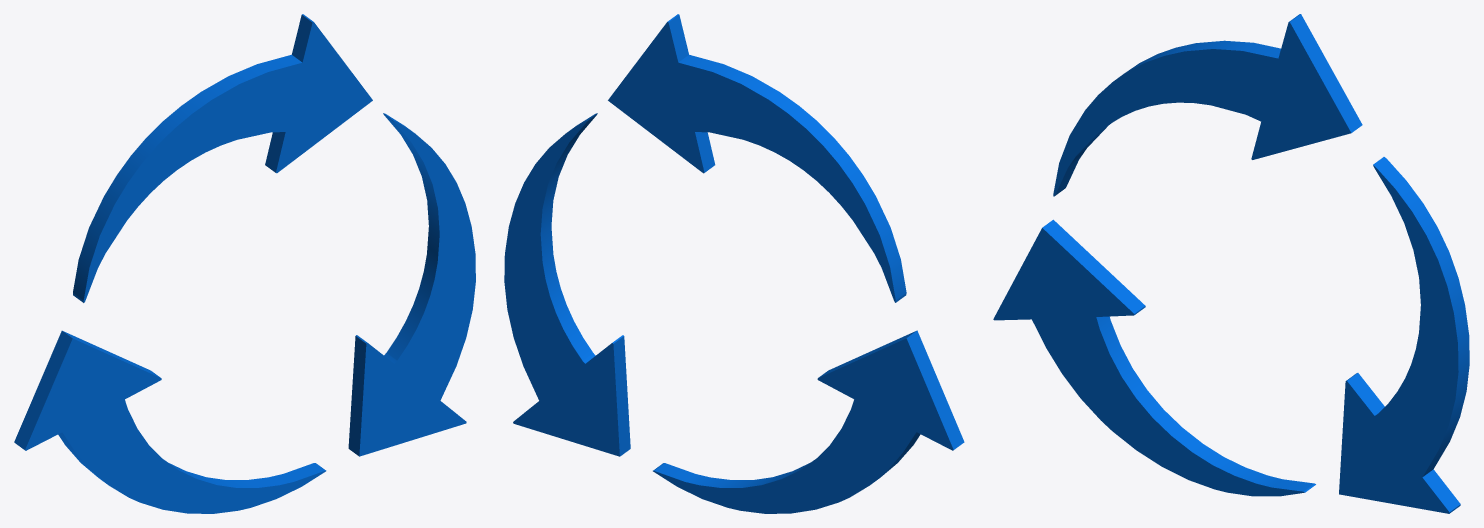
Rendered from three thick arrow circle sign.fbx.
The picture shows the model from 3 angles, left to right: view 1: azimuth 30°, elevation 25°; view 2: azimuth 150°, elevation 25°; view 3: azimuth 330°, elevation 25°; orthographic projection. The views are drawn at different scales.
Visible parts, largest first — view 1: Curve.002; view 2: Curve.002; view 3: Curve.002.
Boxes of the visible parts, <box> form: Curve.002: <box>14,14,475,513</box>; Curve.002: <box>504,14,964,513</box>; Curve.002: <box>993,14,1469,513</box>.
Bounding box in the file's own units: 253 × 253 × 11.55.
